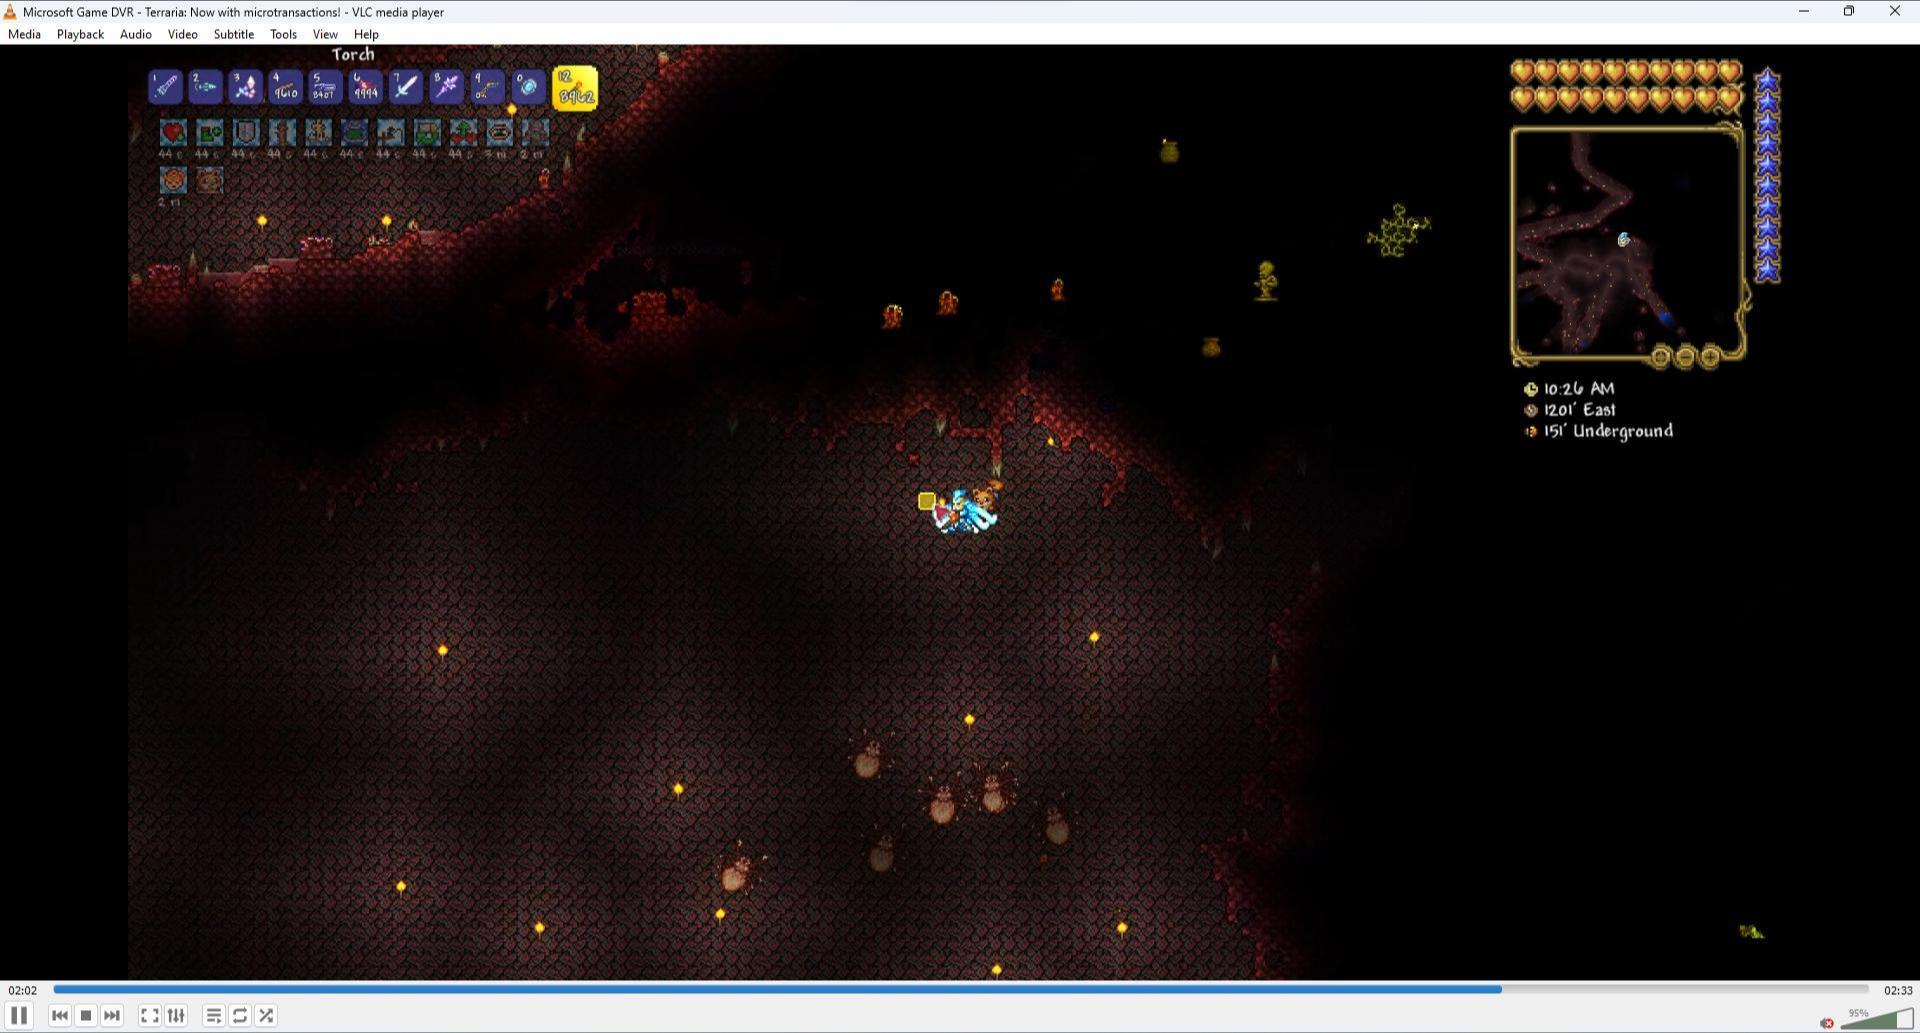spider: (1032, 781, 1087, 856), (706, 832, 769, 893), (838, 719, 896, 781), (971, 762, 1027, 823), (915, 762, 970, 823), (861, 821, 909, 879)
